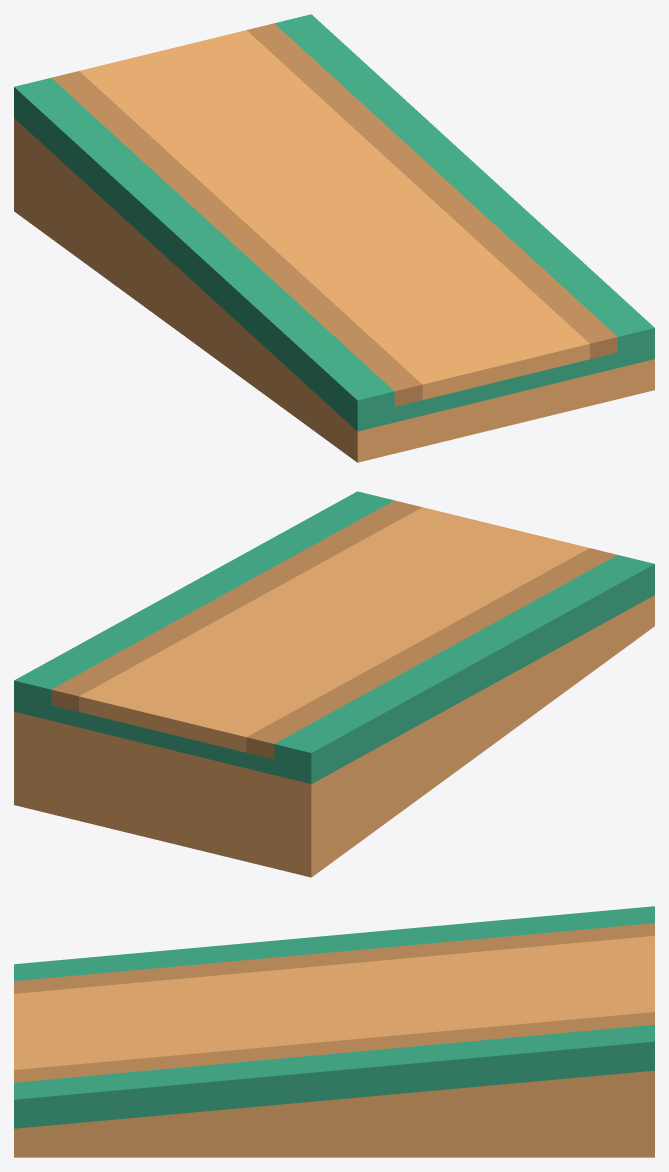
Rendered from tile_straightHillLarge(+).fbx.
3 renders of one model, top to bottom at view 1: azimuth 30°, elevation 25°; view 2: azimuth 150°, elevation 25°; view 3: azimuth 270°, elevation 25°, orthographic. The views are drawn at different scales.
Parts seen in each view (by area): view 1: Mesh_2; view 2: Mesh_2; view 3: Mesh_2.
Part boxes in pixels (box(x1,y1,x2,y2)): Mesh_2: box(14, 14, 654, 462); Mesh_2: box(14, 491, 654, 877); Mesh_2: box(14, 906, 654, 1157).
Bounding box in the file's own units: 100 × 40 × 200.
